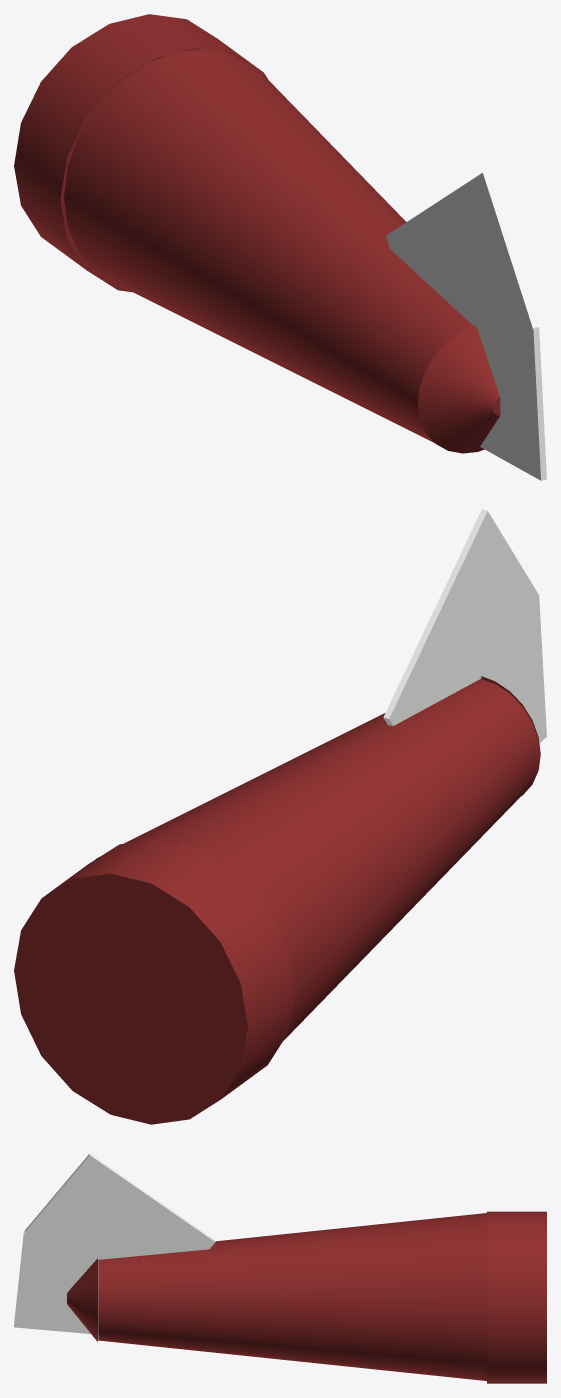
The model's file is debris36.fbx.
3 views of the same model, one above another, from view 1: azimuth 30°, elevation 25°; view 2: azimuth 150°, elevation 25°; view 3: azimuth 270°, elevation 25° (orthographic). The views are drawn at different scales.
Visible parts, largest first — view 1: Cone01, Cylinder04, Box01, Box03, Cone03; view 2: Cylinder04, Cone01, Box01, Box03; view 3: Cone01, Cylinder04, Box01, Box03, Cone03.
Boxes of the visible parts, x1,y1,x2,y2 form: Cone01: (64,49,473,442); Cylinder04: (14,14,268,292); Box01: (386,171,538,357); Box03: (414,263,546,480); Cone03: (418,326,500,453); Cylinder04: (14,839,294,1124); Cone01: (95,679,539,1040); Box01: (383,509,538,725); Box03: (419,594,546,743); Cone01: (98,1213,486,1380); Cylinder04: (487,1211,546,1383); Box01: (24,1153,215,1252); Box03: (14,1231,177,1334); Cone03: (67,1258,97,1341).
Bounding box in the file's own units: 244 × 345 × 752.
